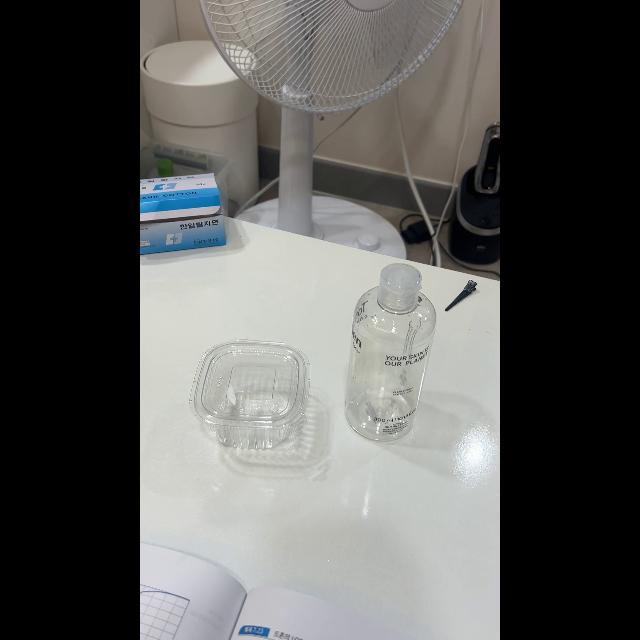clean: (351, 266, 431, 440), (198, 348, 310, 450)
